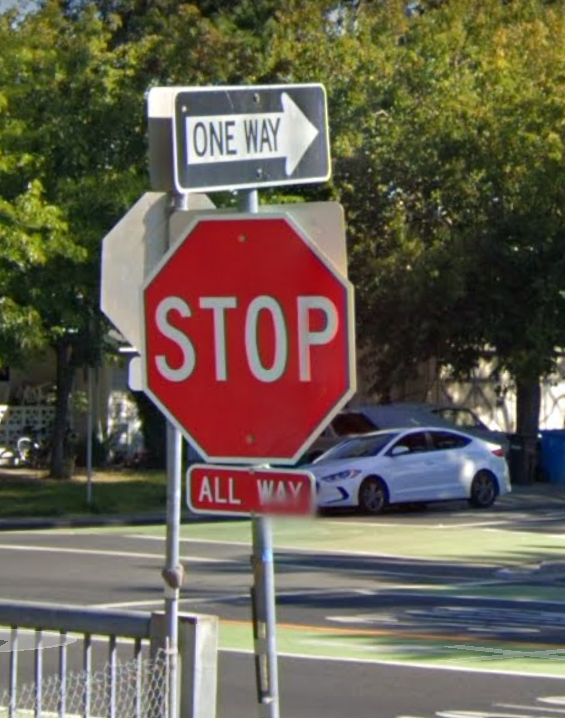stop_sign: (145, 215, 354, 461)
